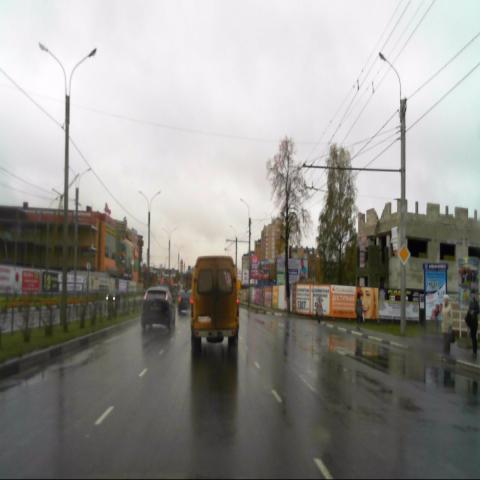2_1: (397, 243, 410, 265)
